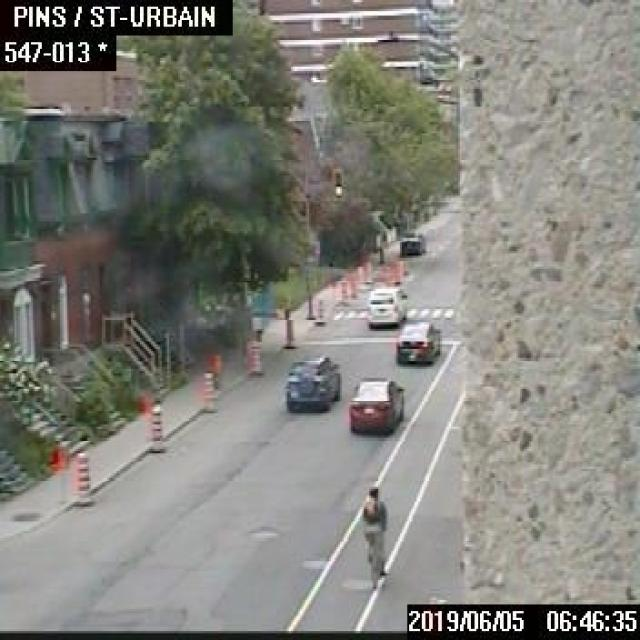construction: (46, 449, 68, 500), (71, 451, 89, 502), (144, 400, 160, 449), (198, 369, 215, 411), (244, 340, 262, 376), (314, 295, 324, 323), (393, 257, 402, 283), (336, 277, 346, 300), (382, 262, 392, 284), (349, 270, 356, 296), (364, 258, 371, 282), (355, 263, 363, 283)
pedestrian: (360, 480, 385, 591)
vehicle: (344, 371, 406, 436), (282, 349, 340, 409), (395, 318, 440, 364), (366, 286, 406, 324), (398, 229, 423, 253)
